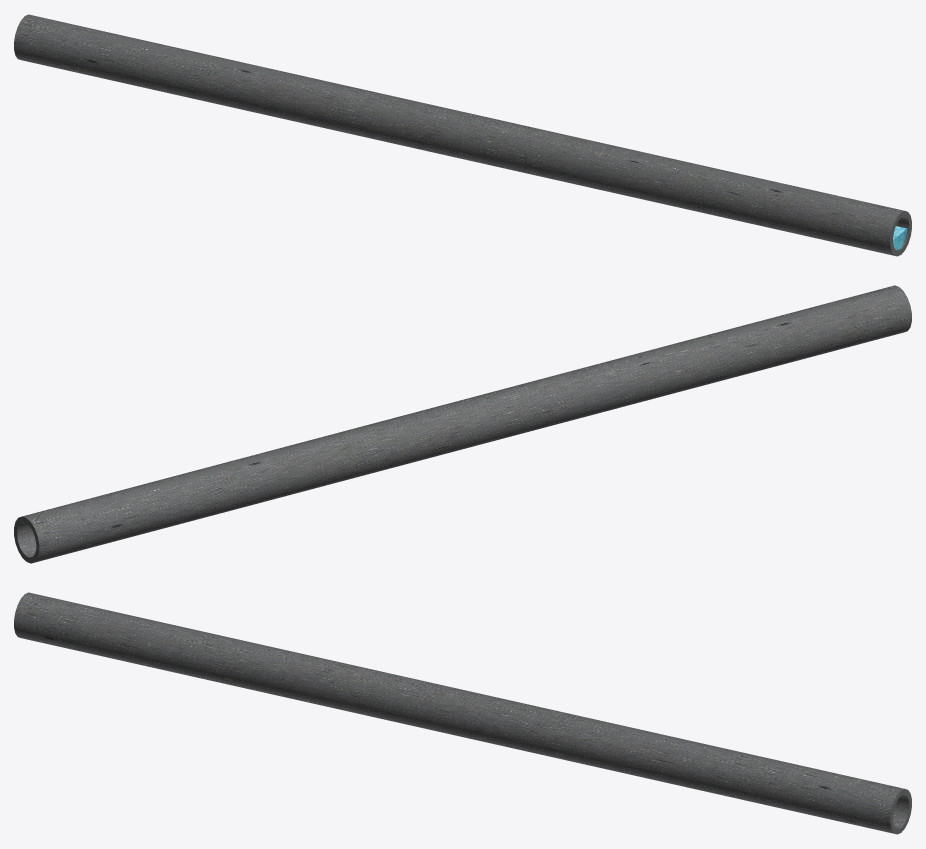
The model's file is shuiguan.gltf.
3 renders of one model, top to bottom at view 1: azimuth 90°, elevation 25°; view 2: azimuth 150°, elevation 25°; view 3: azimuth 270°, elevation 25°, orthographic. The views are drawn at different scales.
Visible parts, largest first — view 1: Tube005; view 2: Tube005; view 3: Tube005.
Boxes of the visible parts, left/top/right/bottom form: Tube005: left=14, top=14, right=911, bottom=256; Tube005: left=14, top=285, right=911, bottom=563; Tube005: left=14, top=592, right=911, bottom=834.
Bounding box in the file's own units: 433 × 40 × 769.
Materials: 2 (2 with a texture image).
